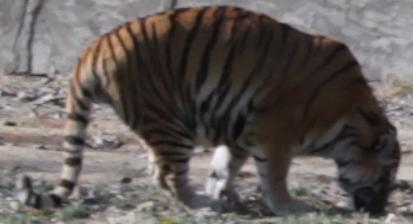tiger: (51, 6, 399, 212)
